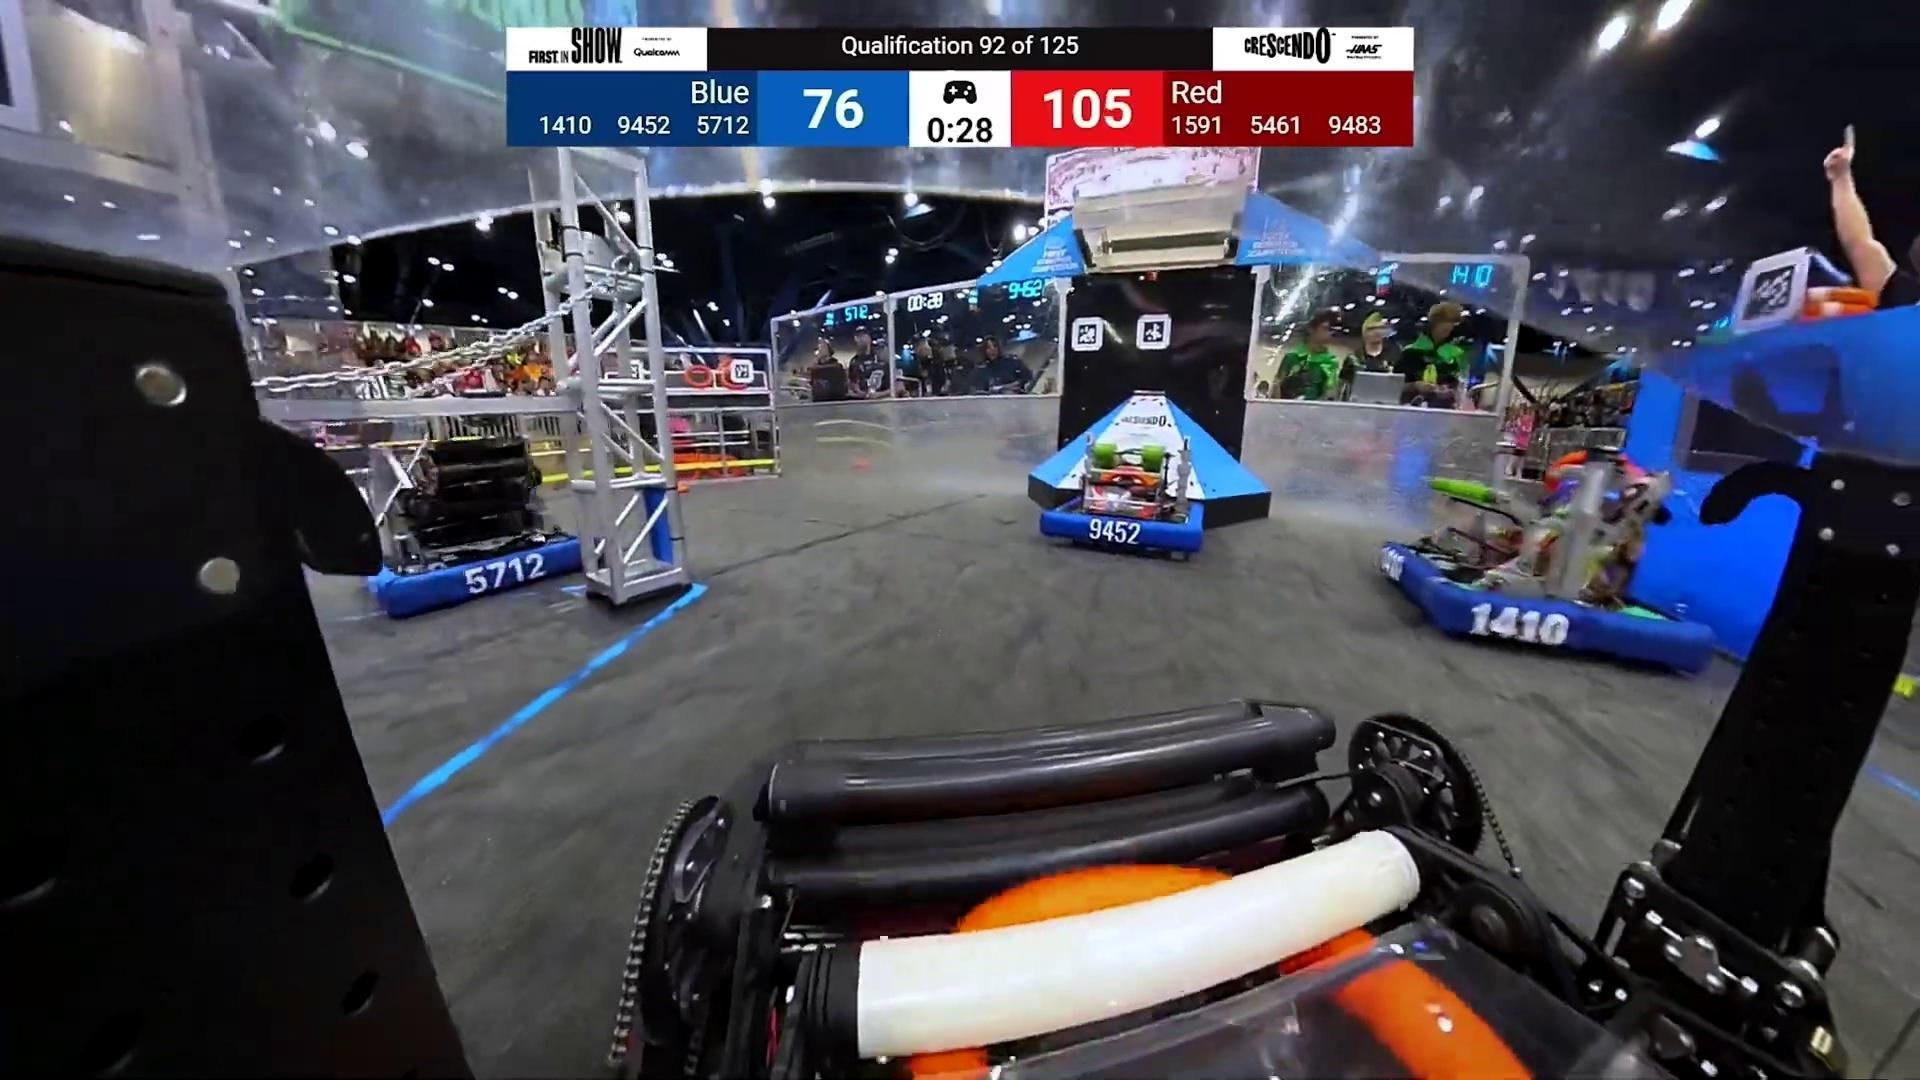robot: (1377, 440, 1745, 676), (360, 434, 584, 620), (1039, 439, 1205, 558)
